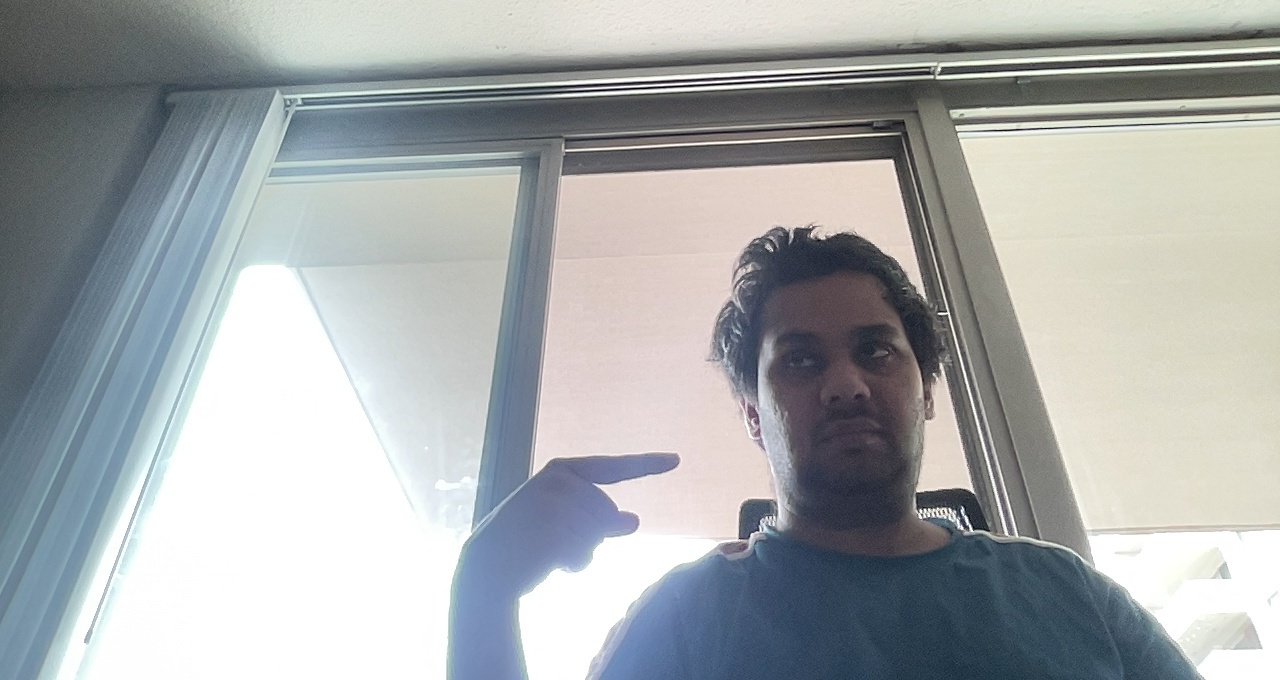fingerleft: (460, 450, 685, 574)
